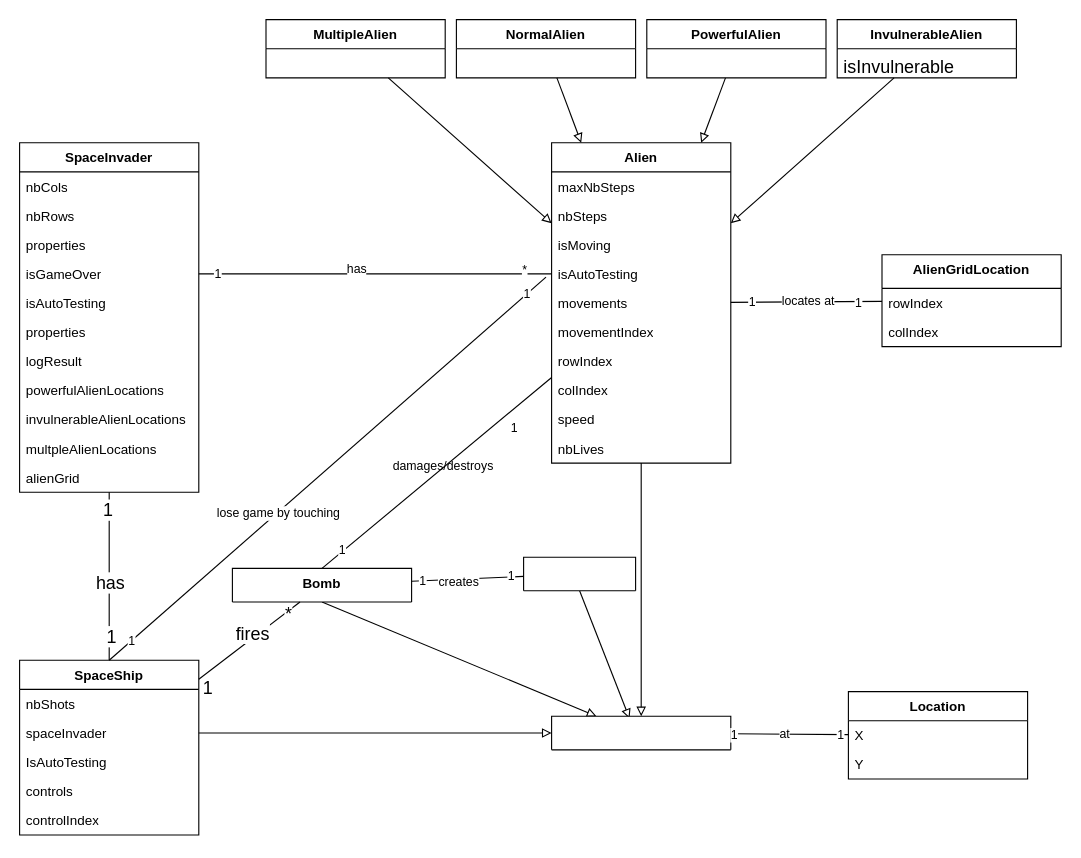
This 1081x858 diagram has some shape labels left out. Here are the shapes that lost their labels. From the top down, the centre of each, then its label:
At [579,573]: "Explosion".
At [640,732]: "Actor".
